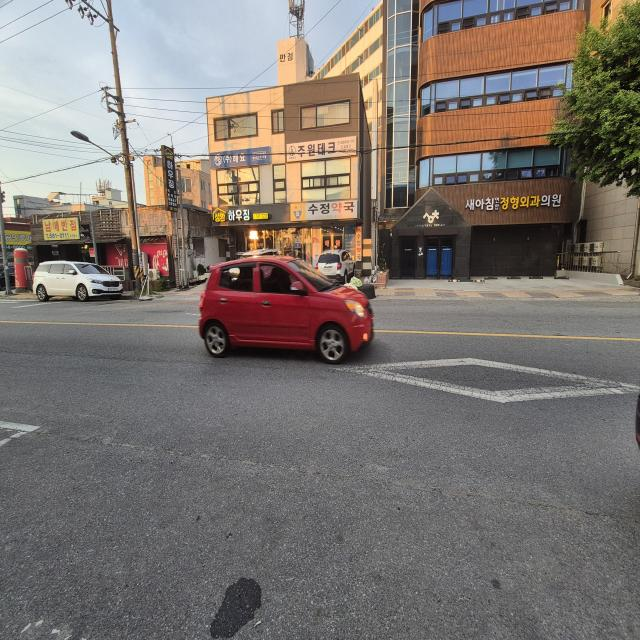car: (198, 253, 372, 364), (32, 260, 124, 302)
